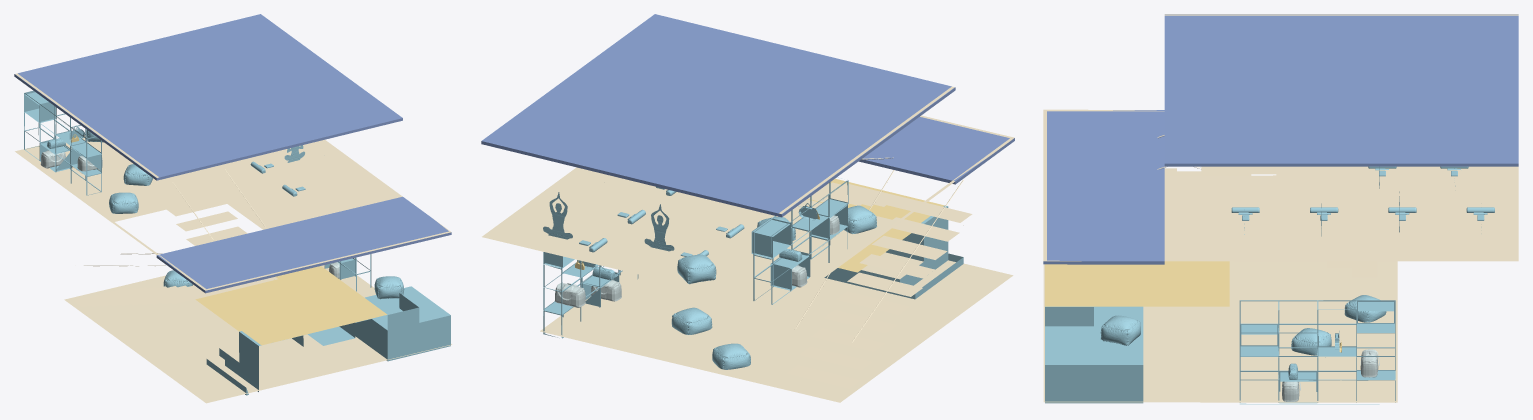
Rendered from retreat_model.glb.
The picture shows the model from 3 angles, left to right: view 1: azimuth 30°, elevation 25°; view 2: azimuth 150°, elevation 25°; view 3: azimuth 270°, elevation 25°; orthographic projection. The views are drawn at different scales.
Visible parts, largest first — view 1: roof, Retreat, Layer0, Layer 01, FormFonts; view 2: Retreat, roof, Layer0, Layer 01, FormFonts; view 3: roof, Retreat, Layer0, Layer 01, FormFonts.
Part boxes in pixels (x1,y1,x2,y2): roof: (14, 14, 451, 293); Retreat: (15, 73, 451, 403); Layer0: (24, 90, 450, 395); Layer 01: (195, 266, 387, 345); FormFonts: (40, 150, 339, 278); Retreat: (482, 86, 1014, 402); roof: (481, 14, 1014, 217); Layer0: (543, 177, 963, 369); Layer 01: (807, 178, 944, 272); FormFonts: (555, 215, 839, 307); roof: (1043, 14, 1518, 264); Retreat: (1043, 14, 1518, 402); Layer0: (1045, 166, 1494, 404); Layer 01: (1045, 261, 1229, 306); FormFonts: (1282, 349, 1379, 401).
Bounding box in the file's own units: 5.02 × 3.77 × 6.71.
